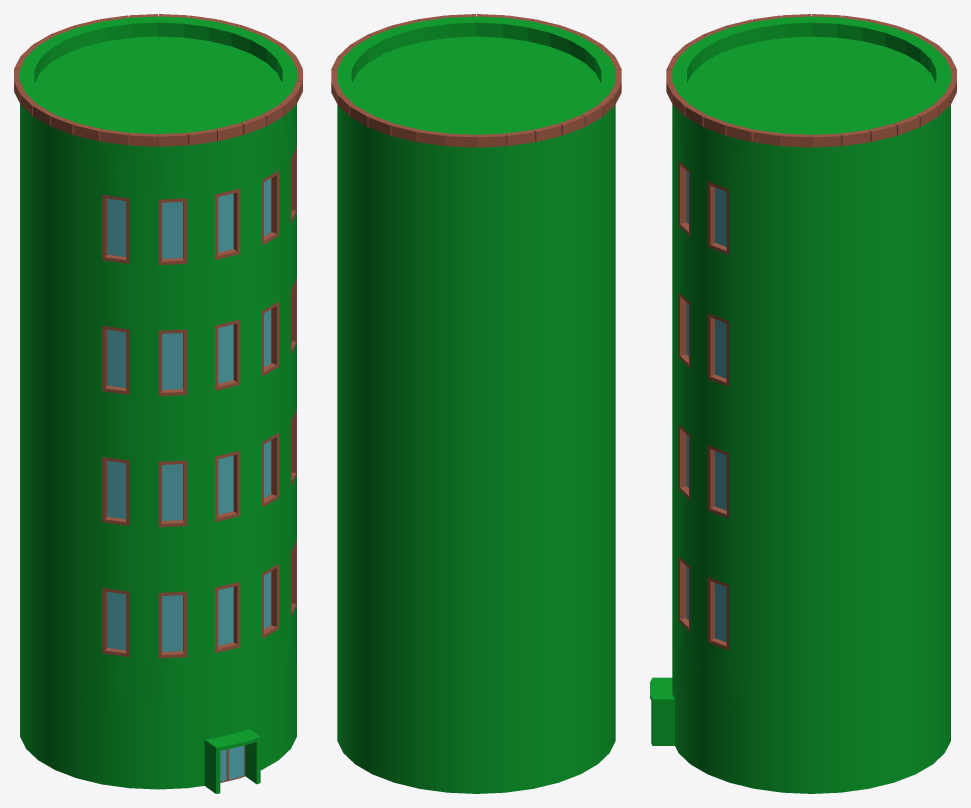
Rendered from Skyscraper_Re.FBX.
The picture shows the model from 3 angles, left to right: view 1: azimuth 30°, elevation 25°; view 2: azimuth 150°, elevation 25°; view 3: azimuth 270°, elevation 25°; orthographic projection.
Visible parts, largest first — view 1: Cylinder004; view 2: Cylinder004; view 3: Cylinder004.
Boxes of the visible parts, x1,y1,x2,y2 form: Cylinder004: (14,14,302,793); Cylinder004: (331,14,621,793); Cylinder004: (650,14,956,793).
Bounding box in the file's own units: 518 × 1290 × 544.
